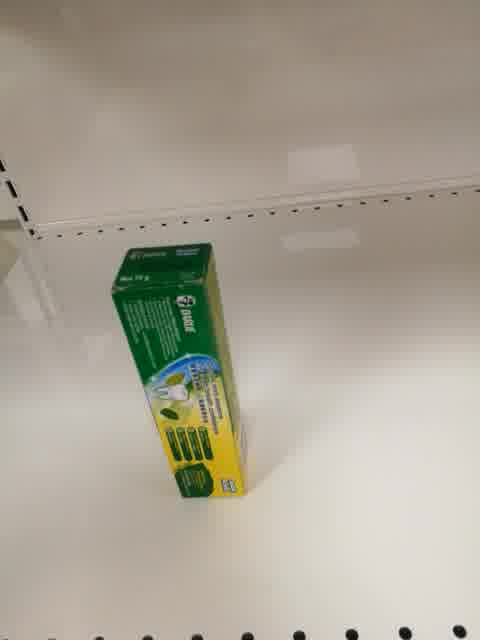toothpaste: (110, 242, 248, 499)
